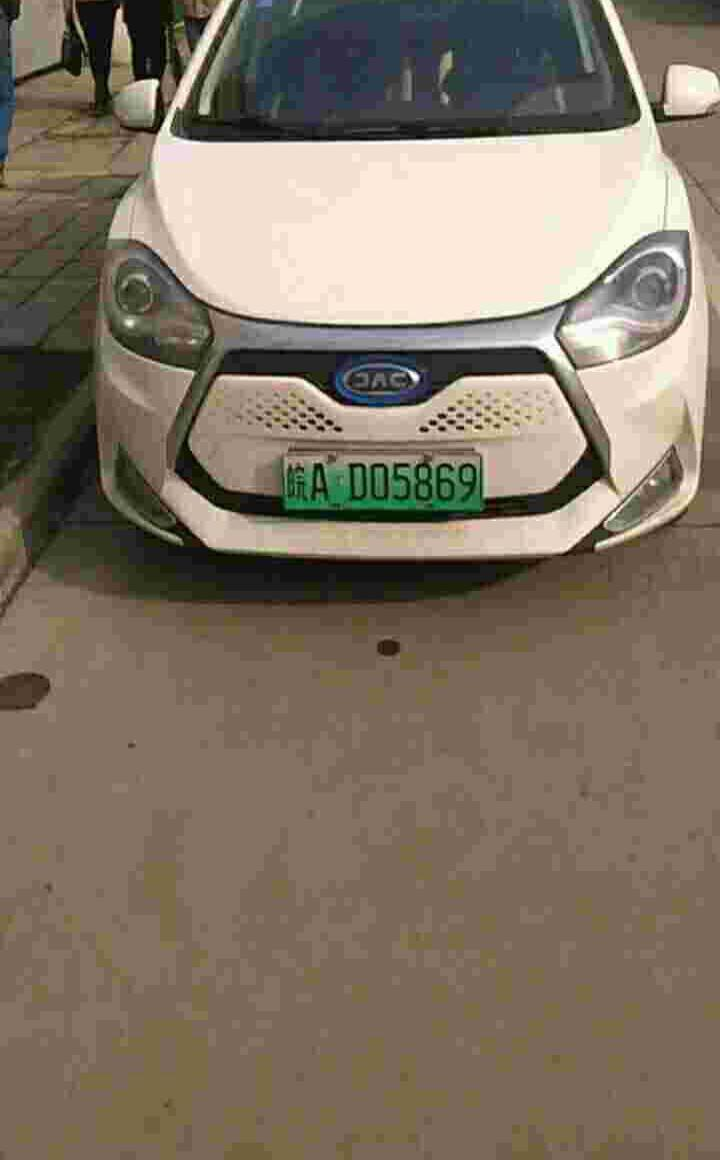car: (280, 441, 495, 525)
